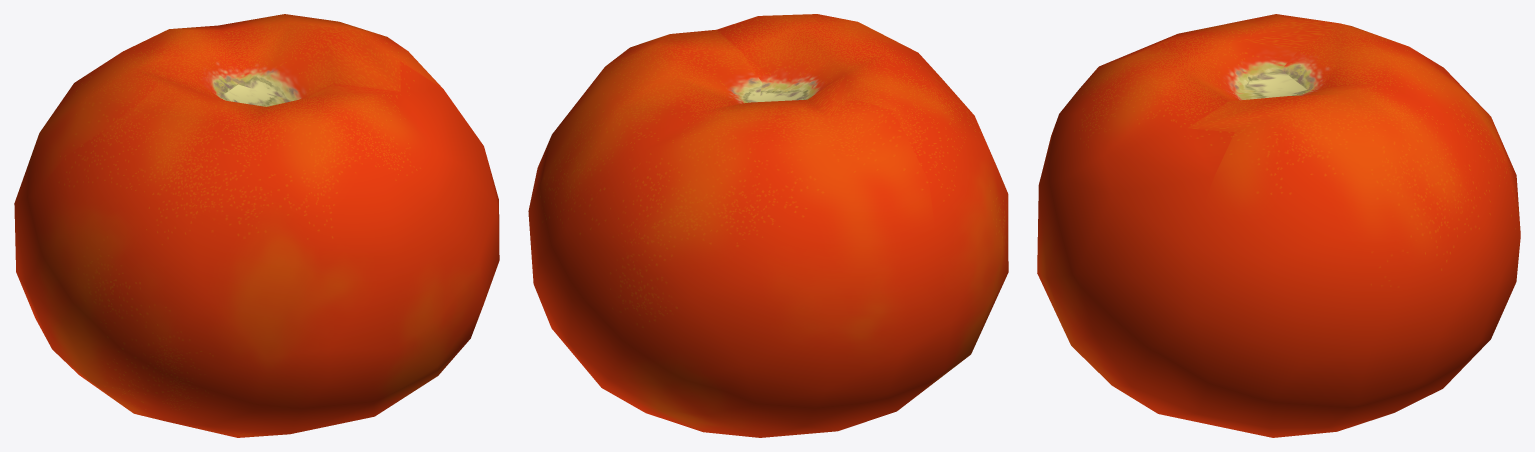
Rendered from SM_Consumable_Tomato_01.FBX.
3 renders of one model, left to right at view 1: azimuth 30°, elevation 25°; view 2: azimuth 150°, elevation 25°; view 3: azimuth 270°, elevation 25°, orthographic.
Parts seen in each view (by area): view 1: SM_Consumable_Tomato_01; view 2: SM_Consumable_Tomato_01; view 3: SM_Consumable_Tomato_01.
Part boxes in pixels (x1=…): SM_Consumable_Tomato_01: x1=14, y1=14, x2=499, y2=437; SM_Consumable_Tomato_01: x1=528, y1=14, x2=1008, y2=437; SM_Consumable_Tomato_01: x1=1037, y1=14, x2=1520, y2=437.
Size of the model in its own units: 7.71 by 6.08 by 7.63.
